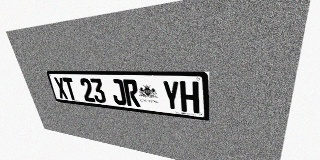2: (79, 78, 95, 102)
3: (90, 78, 107, 103)
H: (179, 81, 199, 113)
J: (109, 79, 127, 106)
R: (123, 79, 141, 107)
T: (62, 77, 78, 100)
X: (53, 77, 69, 99)
Y: (162, 80, 181, 111)
